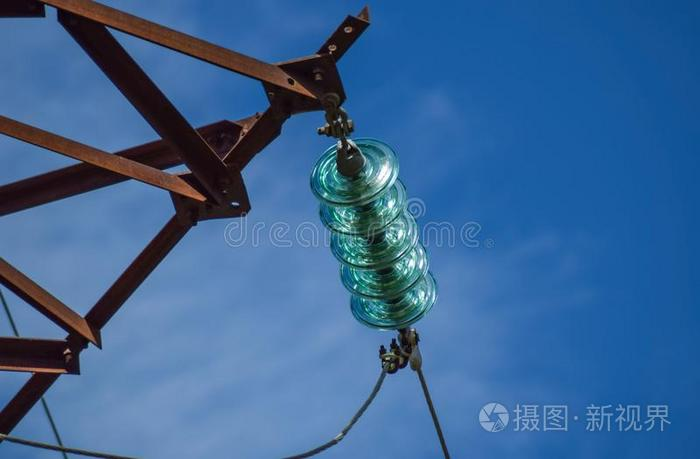insulator: (311, 139, 441, 331)
